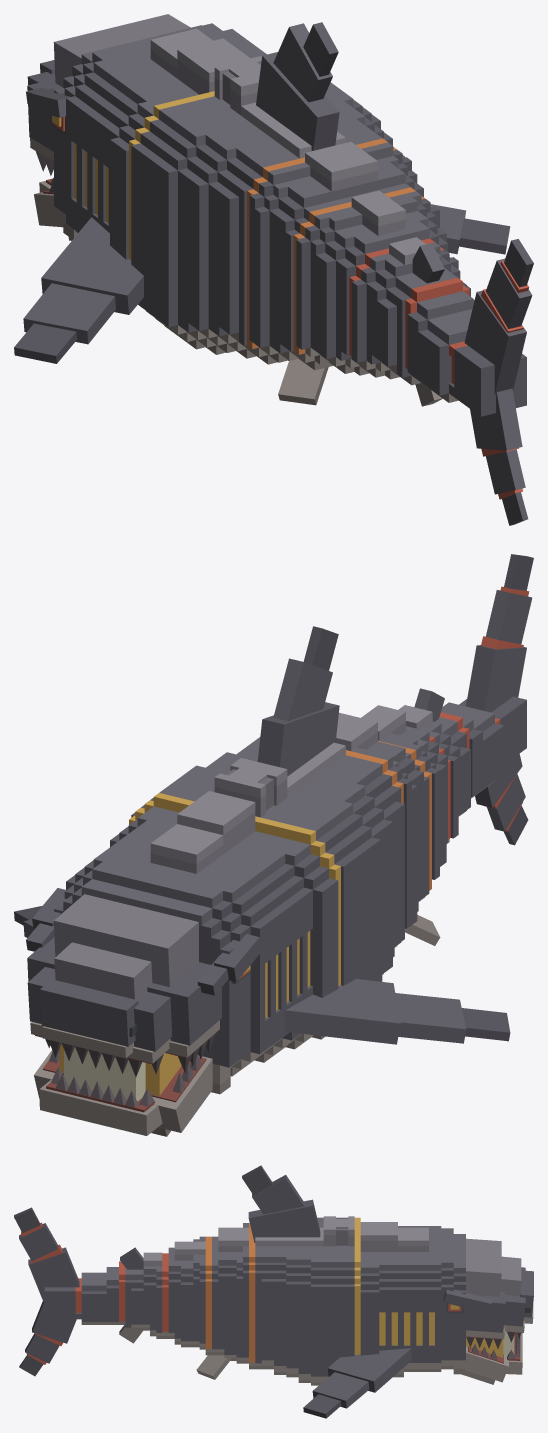
Rendered from MoltenMegalodon.glb.
3 renders of one model, top to bottom at view 1: azimuth 30°, elevation 25°; view 2: azimuth 150°, elevation 25°; view 3: azimuth 270°, elevation 25°, orthographic. The views are drawn at different scales.
Visible parts, largest first — view 1: S2, S1, S3, S4, Tail, S5, Head, S6, S6_Glow, S4_Glow, S3_Glow, Tail_Glow (+4 smaller); view 2: Head, S1, S2, Tail, Jaw, S3, S4, S5, Head_Glow, S6, S2_Glow, S1_Glow (+1 smaller); view 3: S2, S1, Head, Tail, S3, S4, S5, S6, Jaw, S1_Glow, S2_Glow, S3_Glow (+5 smaller).
Part boxes in pixels (bbox=[...]): S2: bbox=[131, 22, 404, 360]; S1: bbox=[14, 28, 510, 363]; S3: bbox=[249, 141, 423, 405]; S4: bbox=[296, 190, 447, 375]; Tail: bbox=[449, 239, 533, 525]; S5: bbox=[352, 237, 470, 406]; Head: bbox=[26, 14, 222, 239]; S6: bbox=[407, 291, 474, 402]; S6_Glow: bbox=[405, 277, 469, 368]; S4_Glow: bbox=[293, 187, 431, 354]; S3_Glow: bbox=[247, 138, 403, 348]; Tail_Glow: bbox=[449, 260, 529, 499]; Head: bbox=[26, 861, 261, 1094]; S1: bbox=[14, 791, 510, 1076]; S2: bbox=[131, 626, 404, 1039]; Tail: bbox=[459, 554, 533, 845]; Jaw: bbox=[34, 1048, 212, 1136]; S3: bbox=[335, 712, 440, 947]; S4: bbox=[361, 705, 447, 900]; S5: bbox=[398, 688, 470, 843]; Head_Glow: bbox=[60, 965, 250, 1101]; S6: bbox=[441, 702, 504, 798]; S2_Glow: bbox=[129, 793, 340, 985]; S1_Glow: bbox=[265, 931, 310, 1018]; S2: bbox=[242, 1165, 354, 1385]; S1: bbox=[303, 1222, 441, 1418]; Head: bbox=[441, 1228, 533, 1374]; Tail: bbox=[14, 1207, 81, 1376]; S3: bbox=[196, 1223, 255, 1379]; S4: bbox=[168, 1236, 211, 1355]; S5: bbox=[119, 1247, 168, 1343]; S6: bbox=[81, 1267, 125, 1324]; Jaw: bbox=[461, 1333, 522, 1384]; S1_Glow: bbox=[379, 1312, 434, 1345]; S2_Glow: bbox=[354, 1217, 360, 1354]; S3_Glow: bbox=[249, 1223, 255, 1362].
Size of the model in its own units: 26.89 by 18.62 by 41.95.
